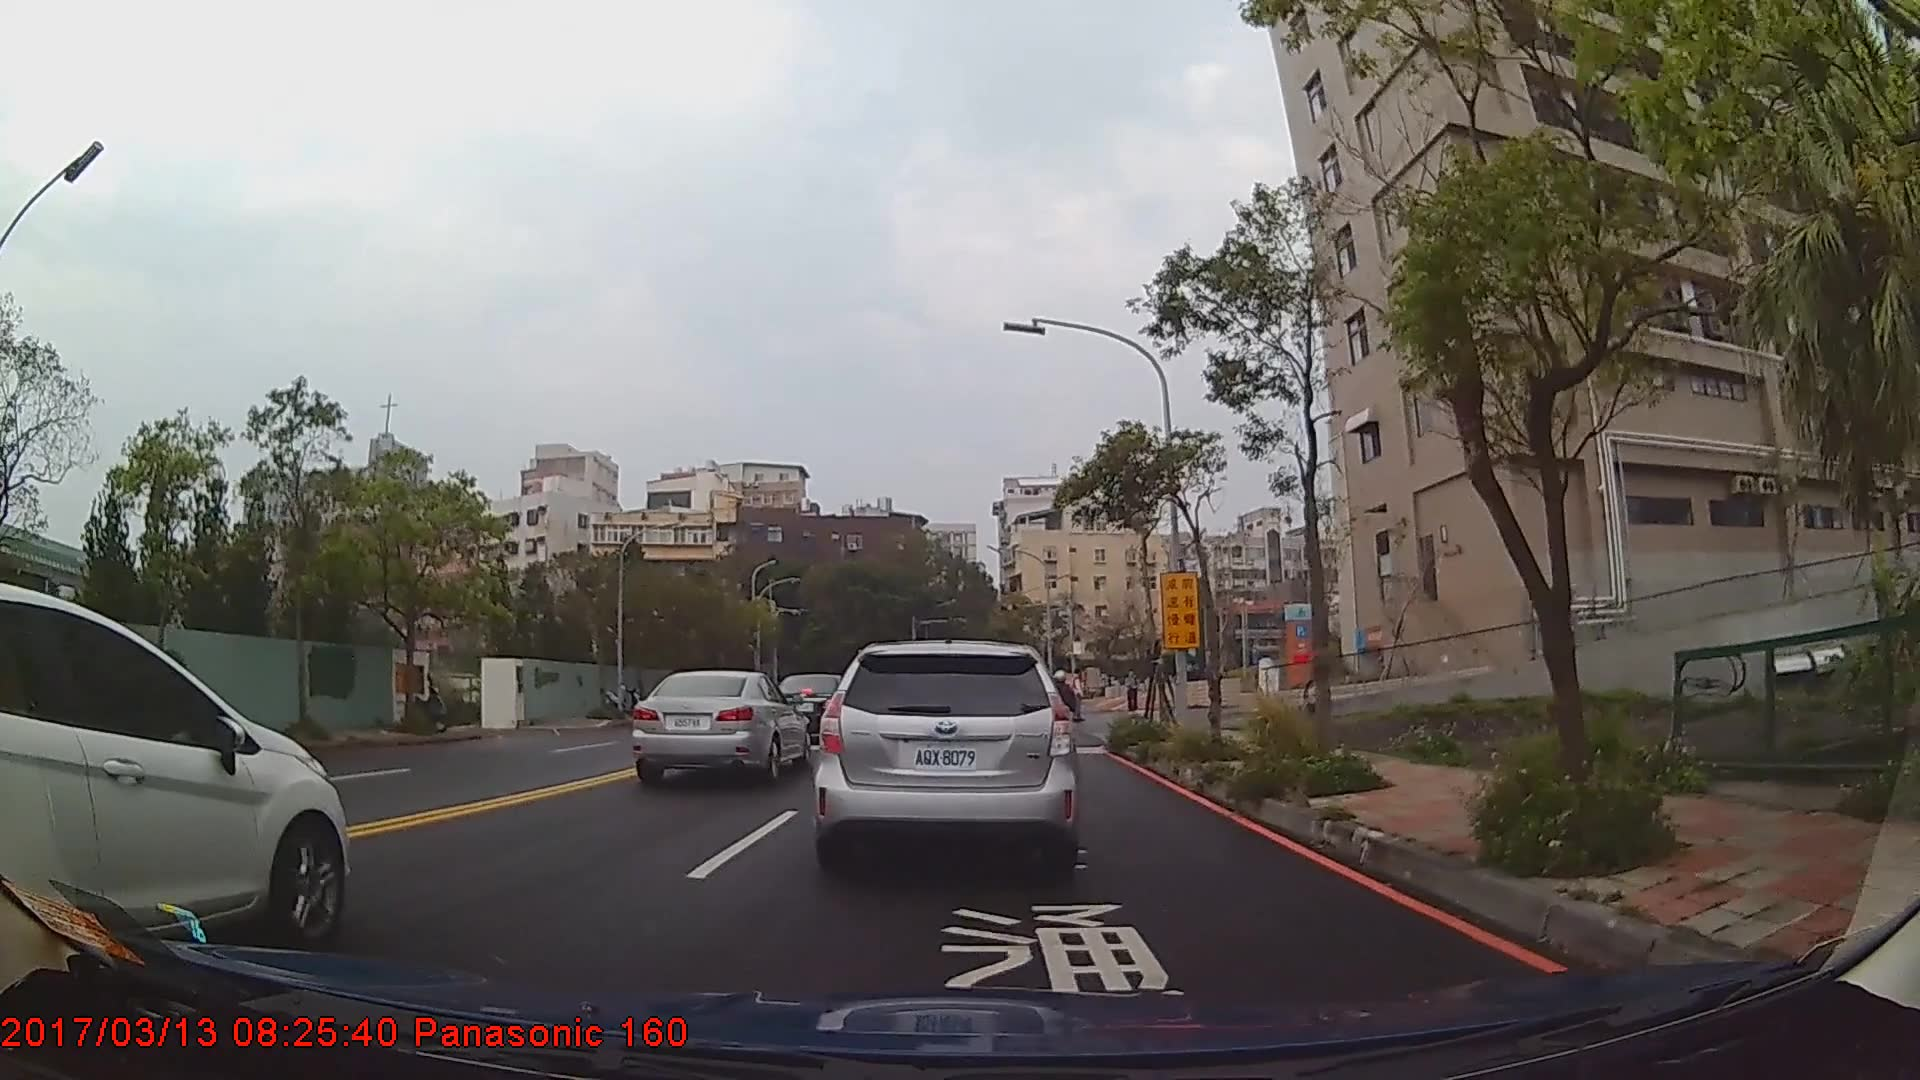vehicle: (0, 579, 349, 953), (815, 640, 1077, 872), (630, 671, 811, 787), (773, 673, 862, 738)
